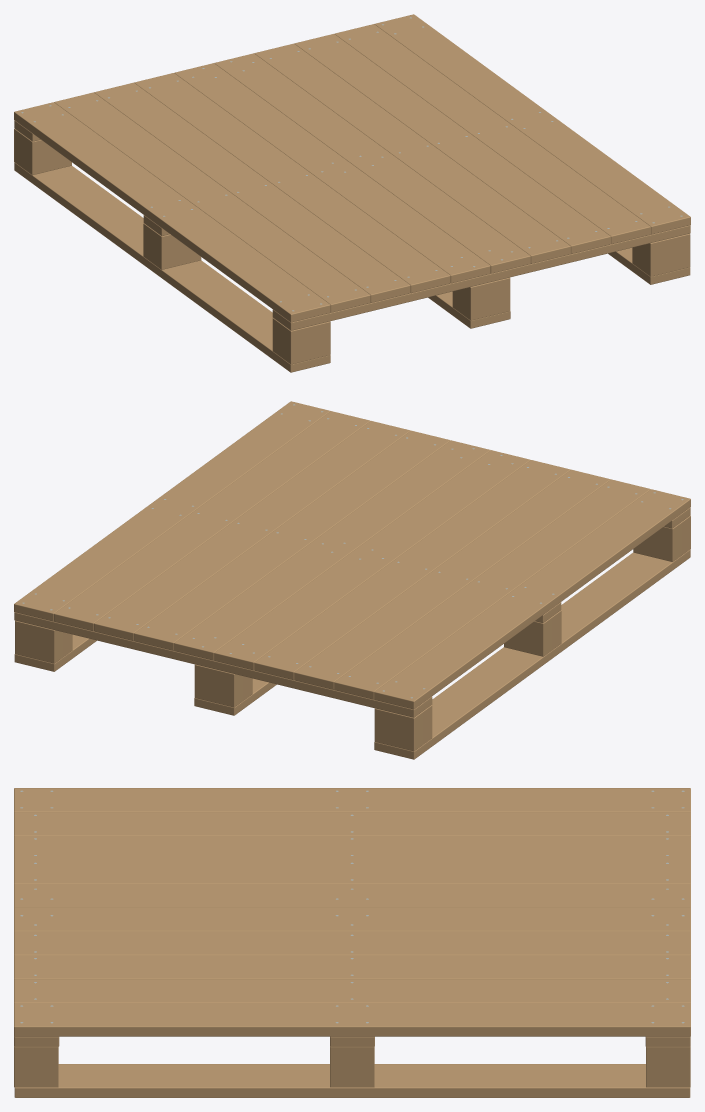
The model's file is pallet_block_a06.glb.
3 renders of one model, top to bottom at view 1: azimuth 30°, elevation 25°; view 2: azimuth 150°, elevation 25°; view 3: azimuth 270°, elevation 25°, orthographic. The views are drawn at different scales.
Bounding box in the file's own units: 1 × 0.1402 × 1.2.
